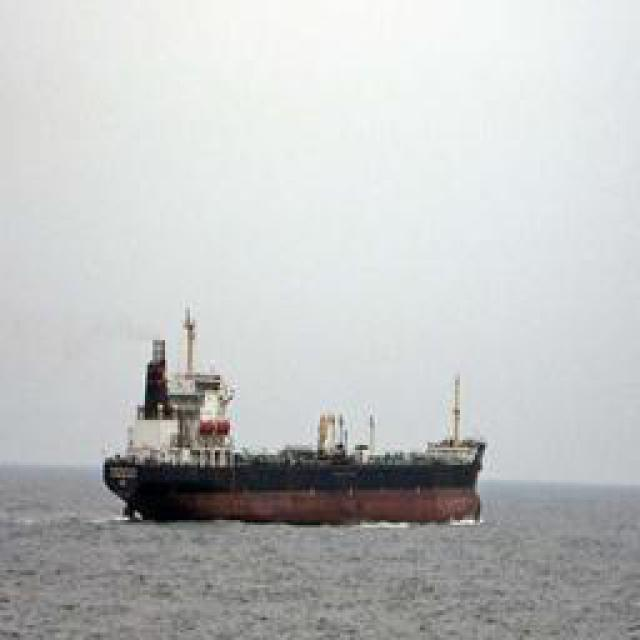Ship: (105, 302, 490, 525)
